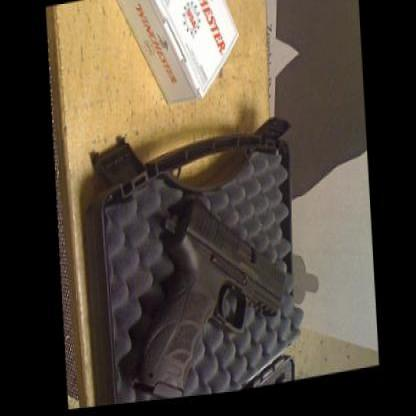pistol: (120, 184, 290, 404)
